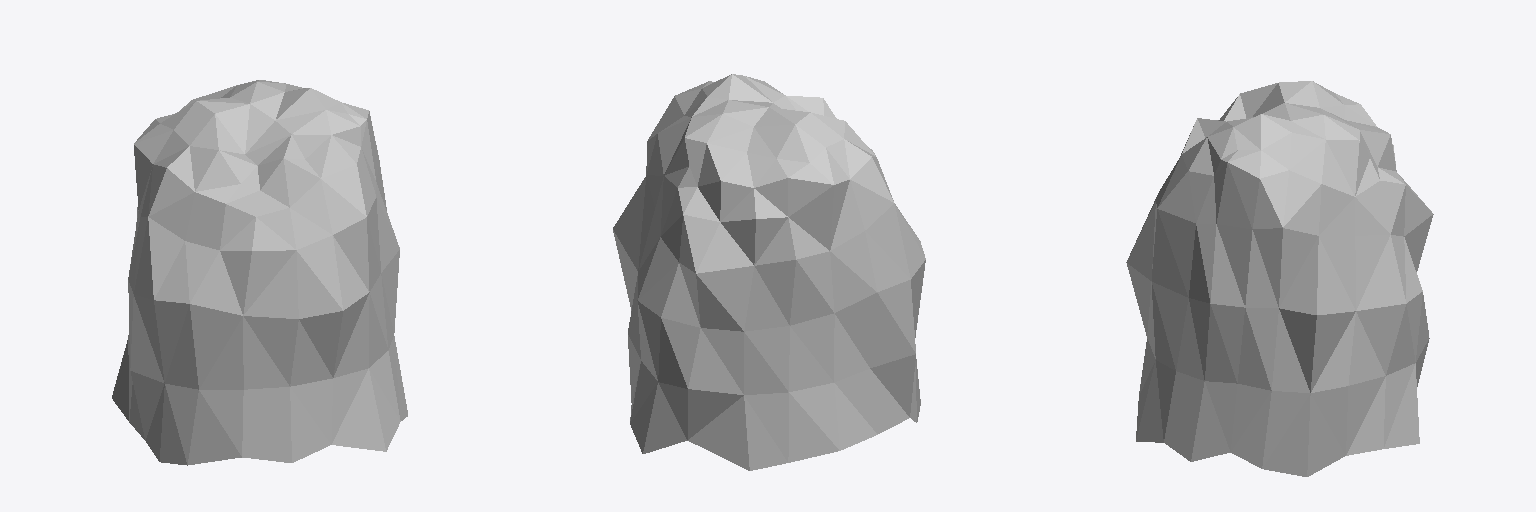
The model's file is wall5.obj.
The picture shows the model from 3 angles: view 1: azimuth 30°, elevation 25°; view 2: azimuth 150°, elevation 25°; view 3: azimuth 270°, elevation 25°; orthographic projection.
Parts seen in each view (by area): view 1: Cube.004_Cube.005; view 2: Cube.004_Cube.005; view 3: Cube.004_Cube.005.
Boxes of the visible parts, x1,y1,x2,y2 form: Cube.004_Cube.005: [112, 80, 407, 465]; Cube.004_Cube.005: [613, 74, 925, 470]; Cube.004_Cube.005: [1126, 81, 1433, 476].
Size of the model in its own units: 11.13 by 12.75 by 10.82.